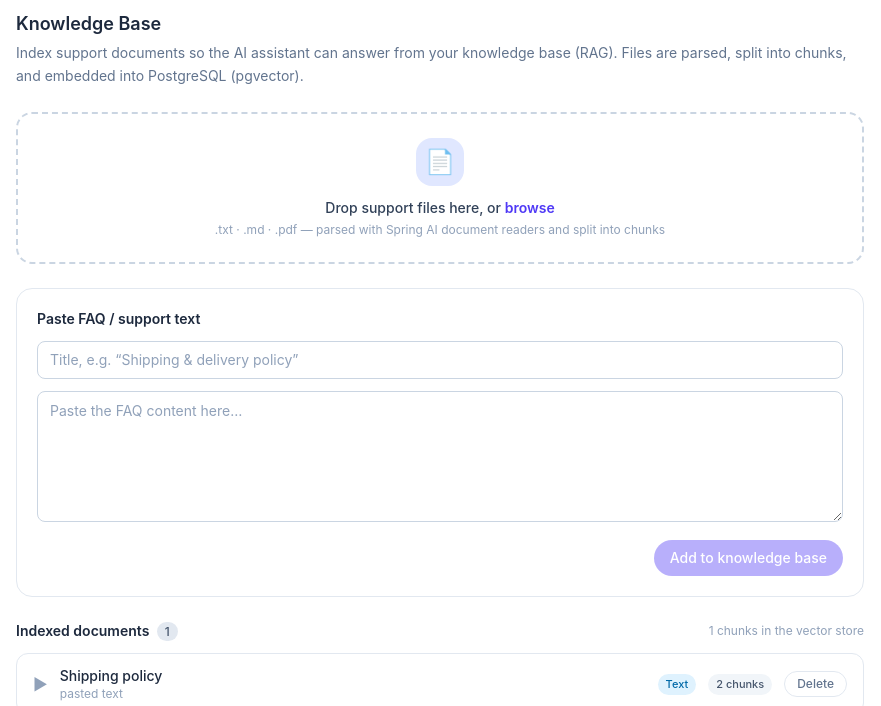
Test: KnowledgeBaseManager › deletes a document from the knowledge base
Step 1. Click the button "Delete" → (816, 684), box x1=784 y1=671 x2=847 y2=697
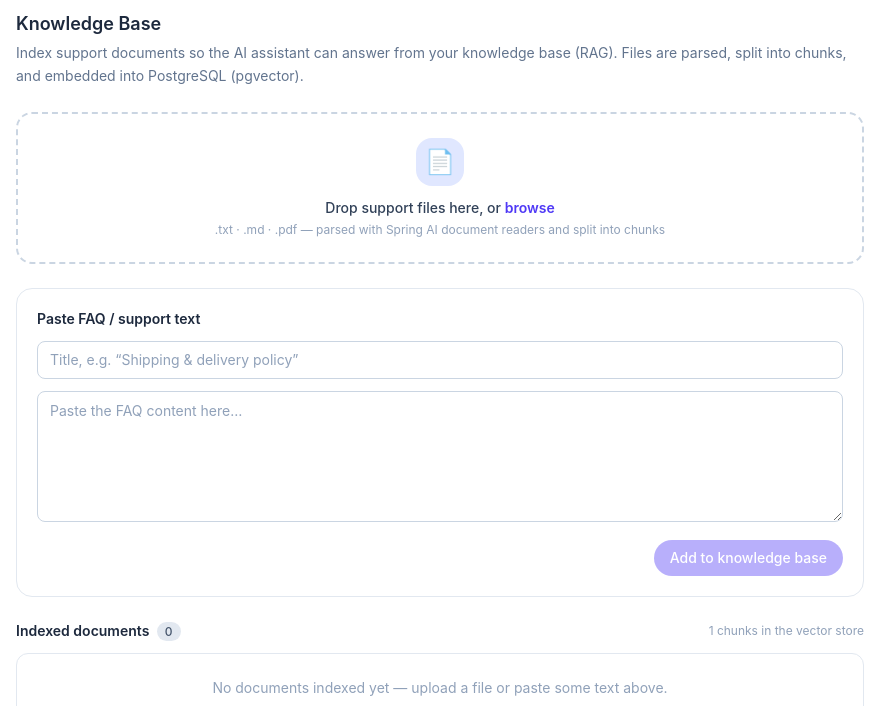
Expected: the text "No documents indexed yet" is shown, x1=212 y1=679 x2=668 y2=696
